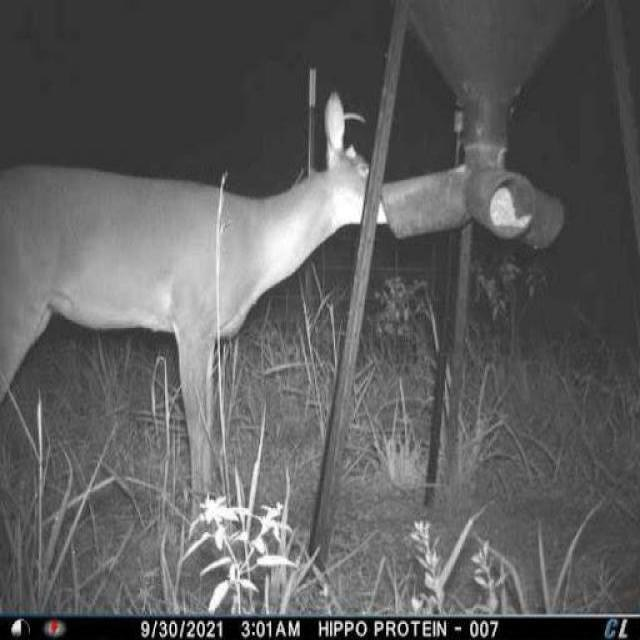deer: (0, 82, 385, 561)
